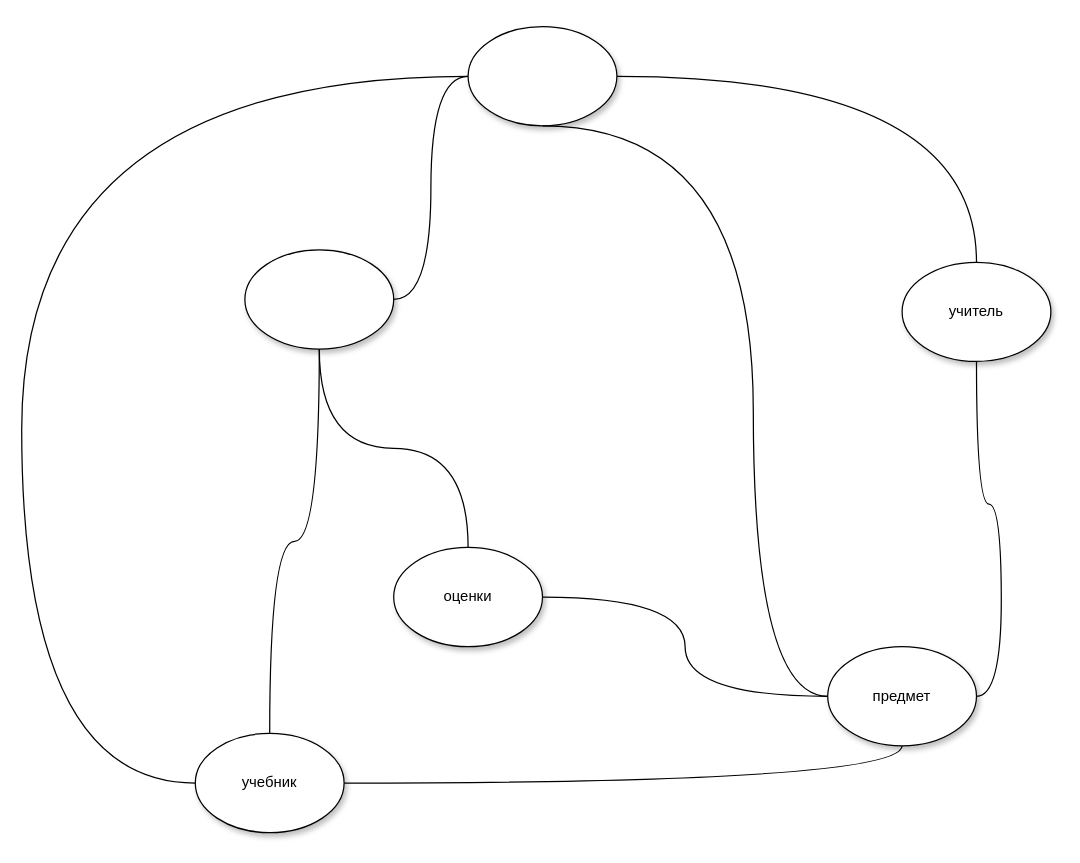
The diagram is 1080 pixels wide and 863 high, and some of its shapes have lost their labels. The centre of each missing label's shape, as x and y in pixels:
"класс" belongs at (x=543, y=77).
"ученик" belongs at (x=320, y=301).
